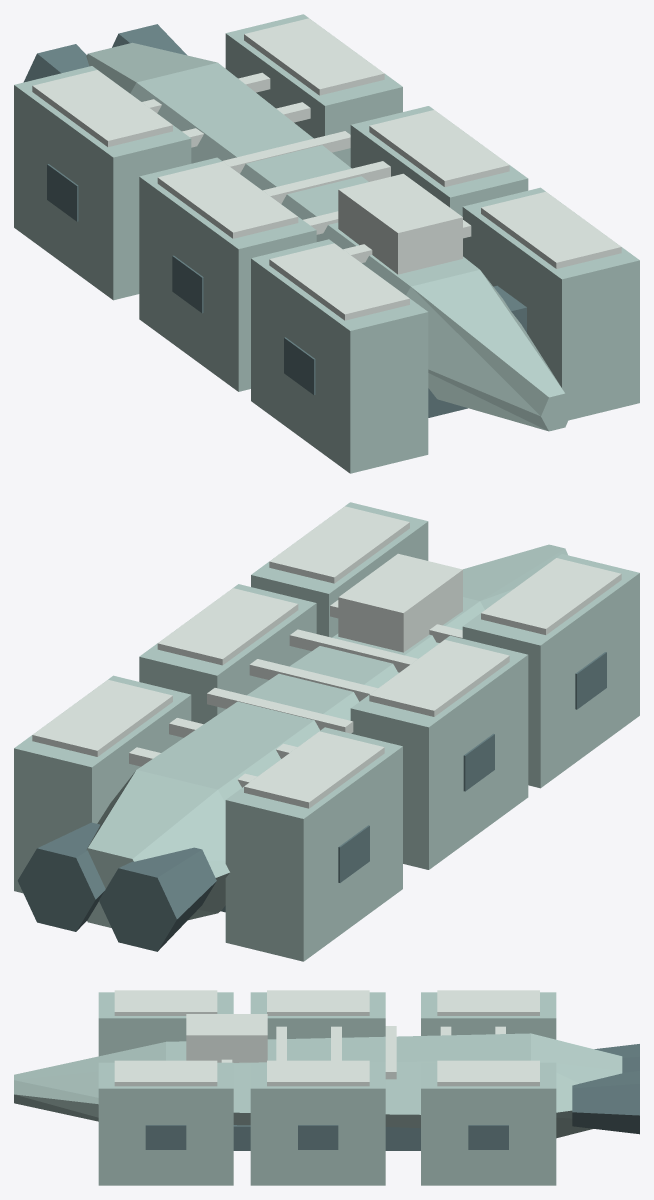
3 views of the same model, one above another, from view 1: azimuth 30°, elevation 25°; view 2: azimuth 150°, elevation 25°; view 3: azimuth 270°, elevation 25° (orthographic). The views are drawn at different scales.
Bounding box in the file's own units: 3.78 × 2.05 × 10.28.
